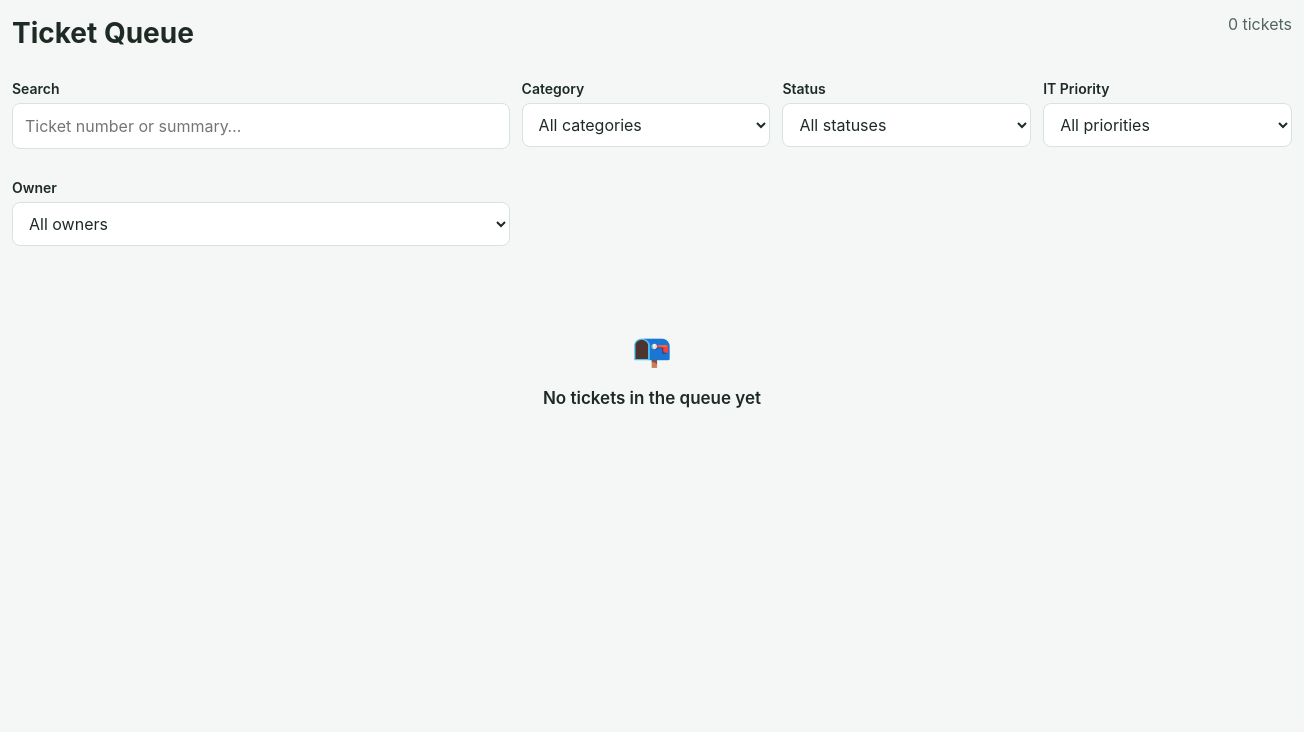
StaffTicketQueue › shows the no-results state with a clear-filters control once a filter is applied
Expected: the text "No tickets in the queue yet" is shown, 543,386 -> 761,412
Select "In Progress" in the dropdown labelled "Status" at (907, 125), box 782,103 -> 1031,147
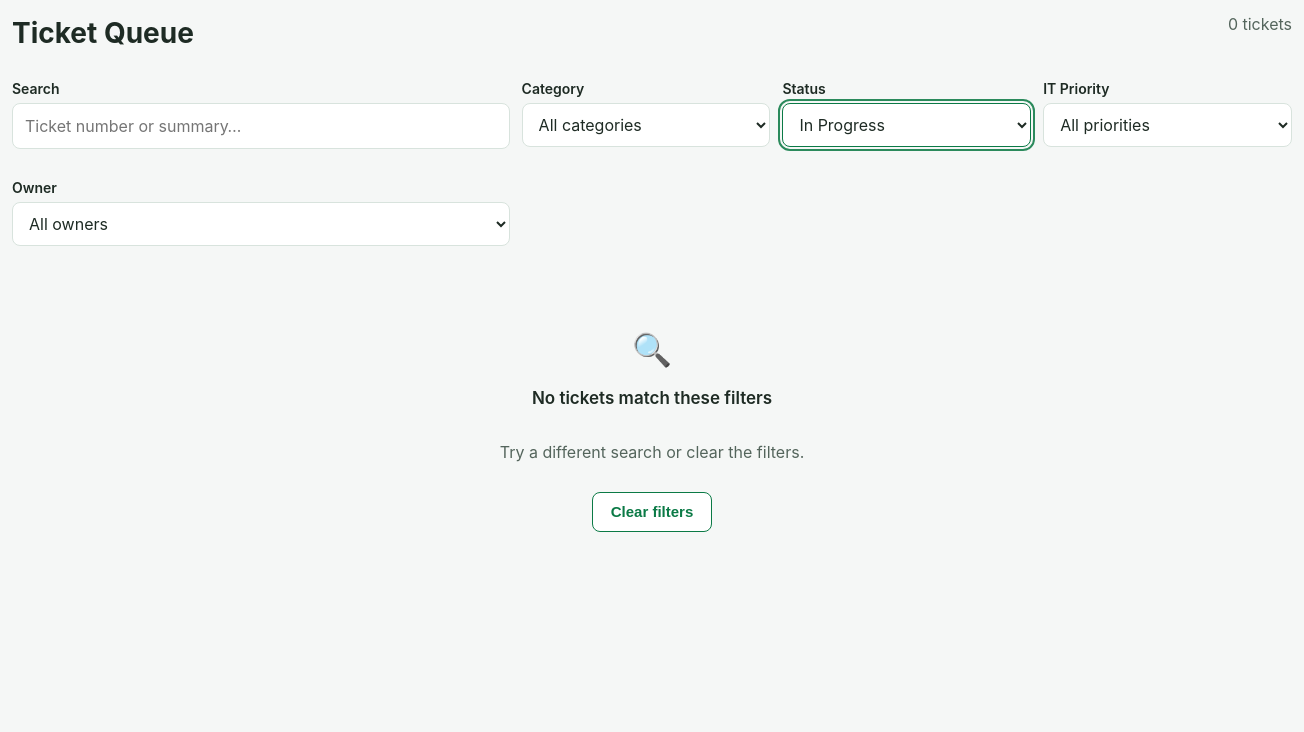
Now the text "No tickets match these filters" is shown, box 532,386 -> 772,412
Now the button "Clear filters" is shown, box 592,492 -> 712,532
